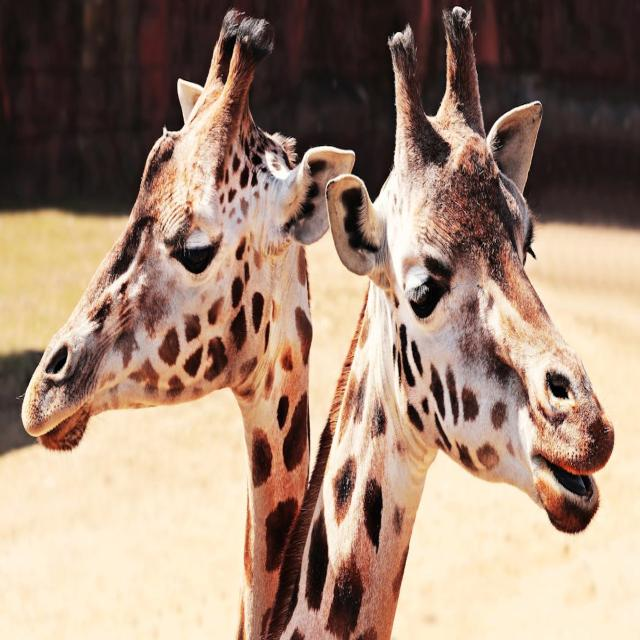Giraffe: (271, 10, 614, 637), (20, 7, 358, 640)
